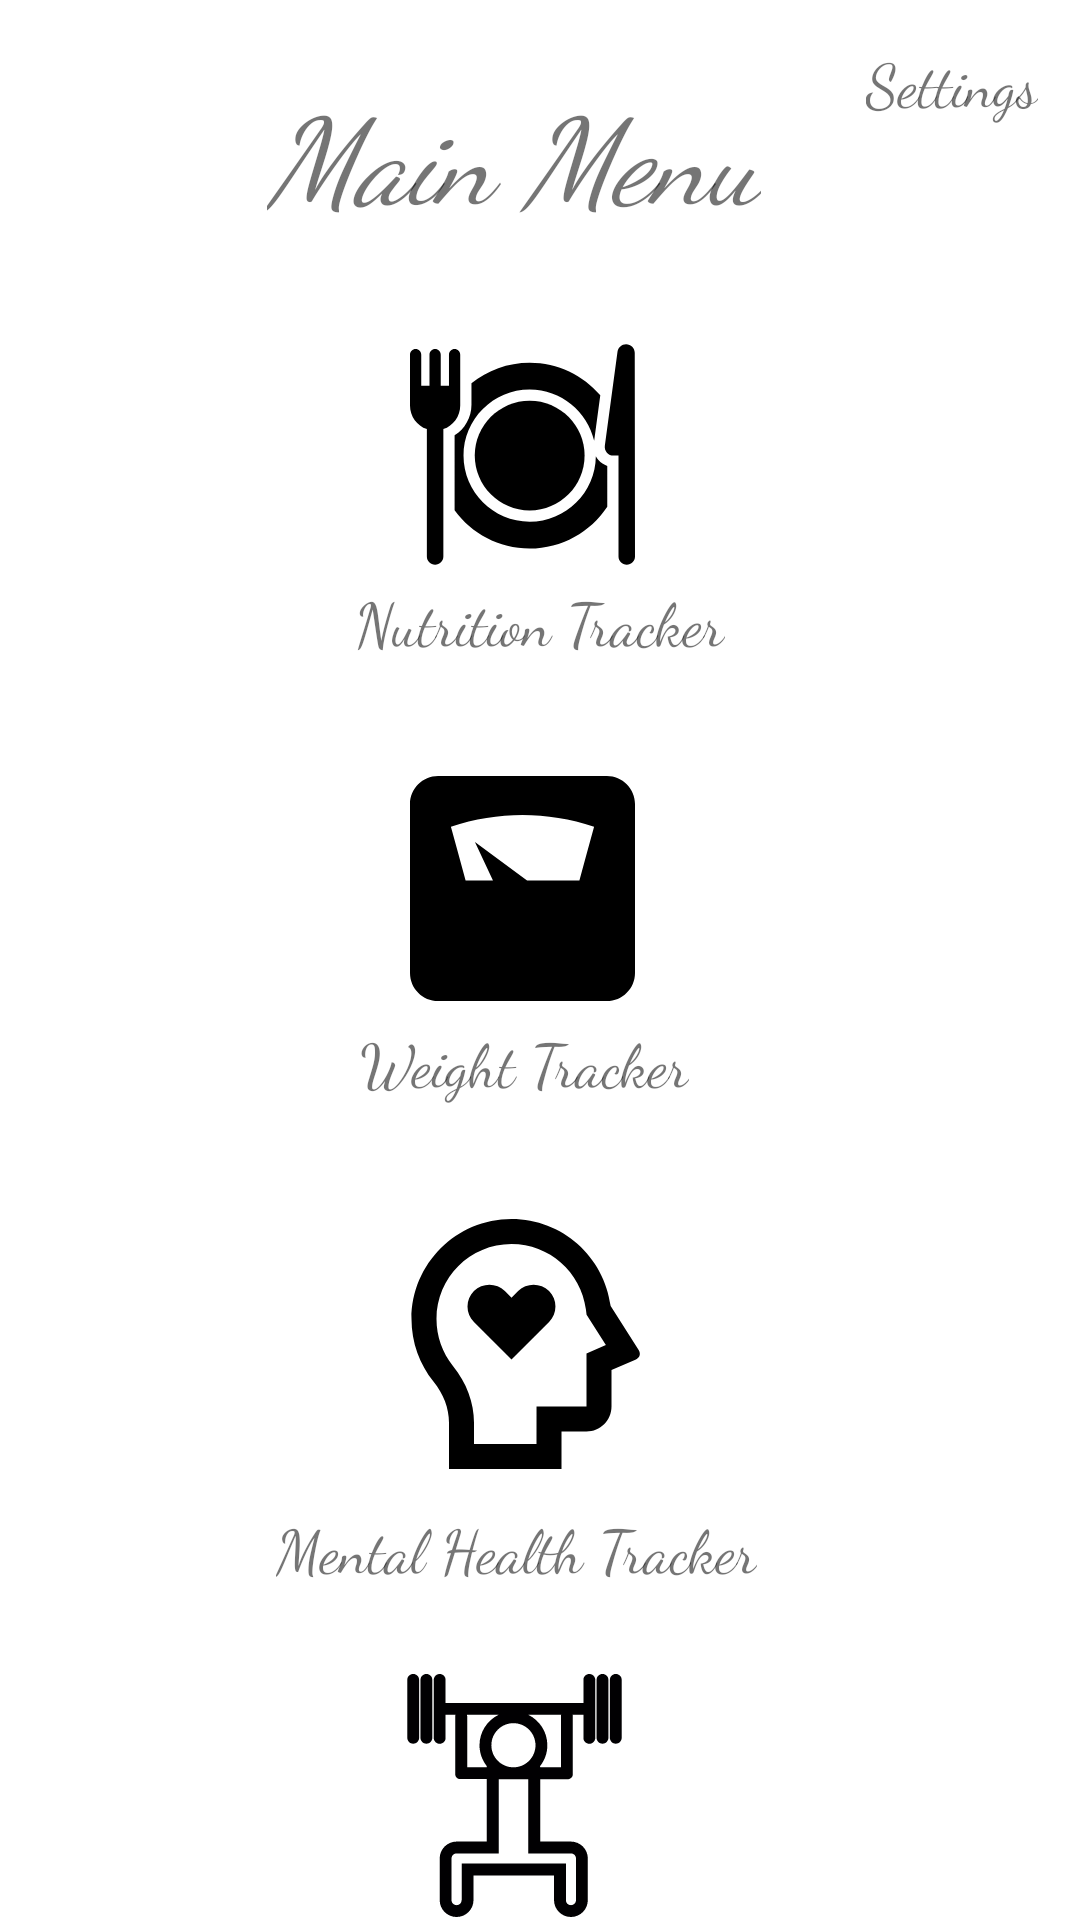

Named icons in this screenshot (1080 x 1920) and their centers, (x=x, y=y):
exercise: (x=514, y=1795)
